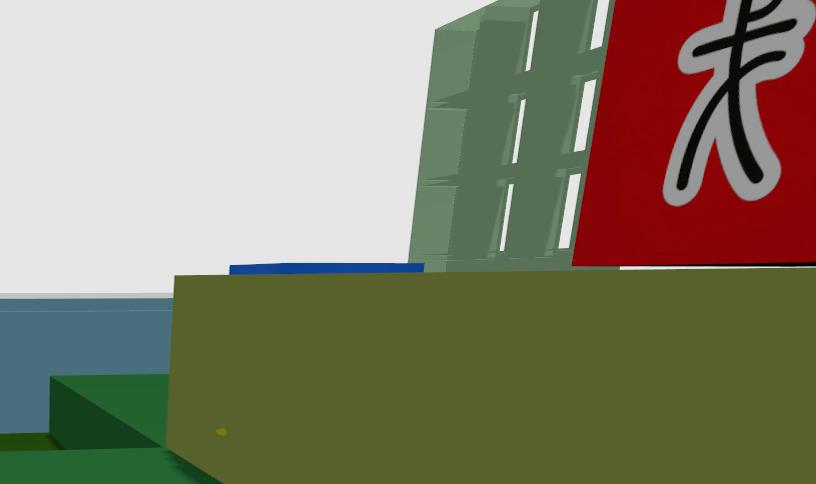KFS_FAKE: (552, 0, 815, 270), (662, 0, 808, 214)
KFS_REAL: (218, 265, 410, 281)
